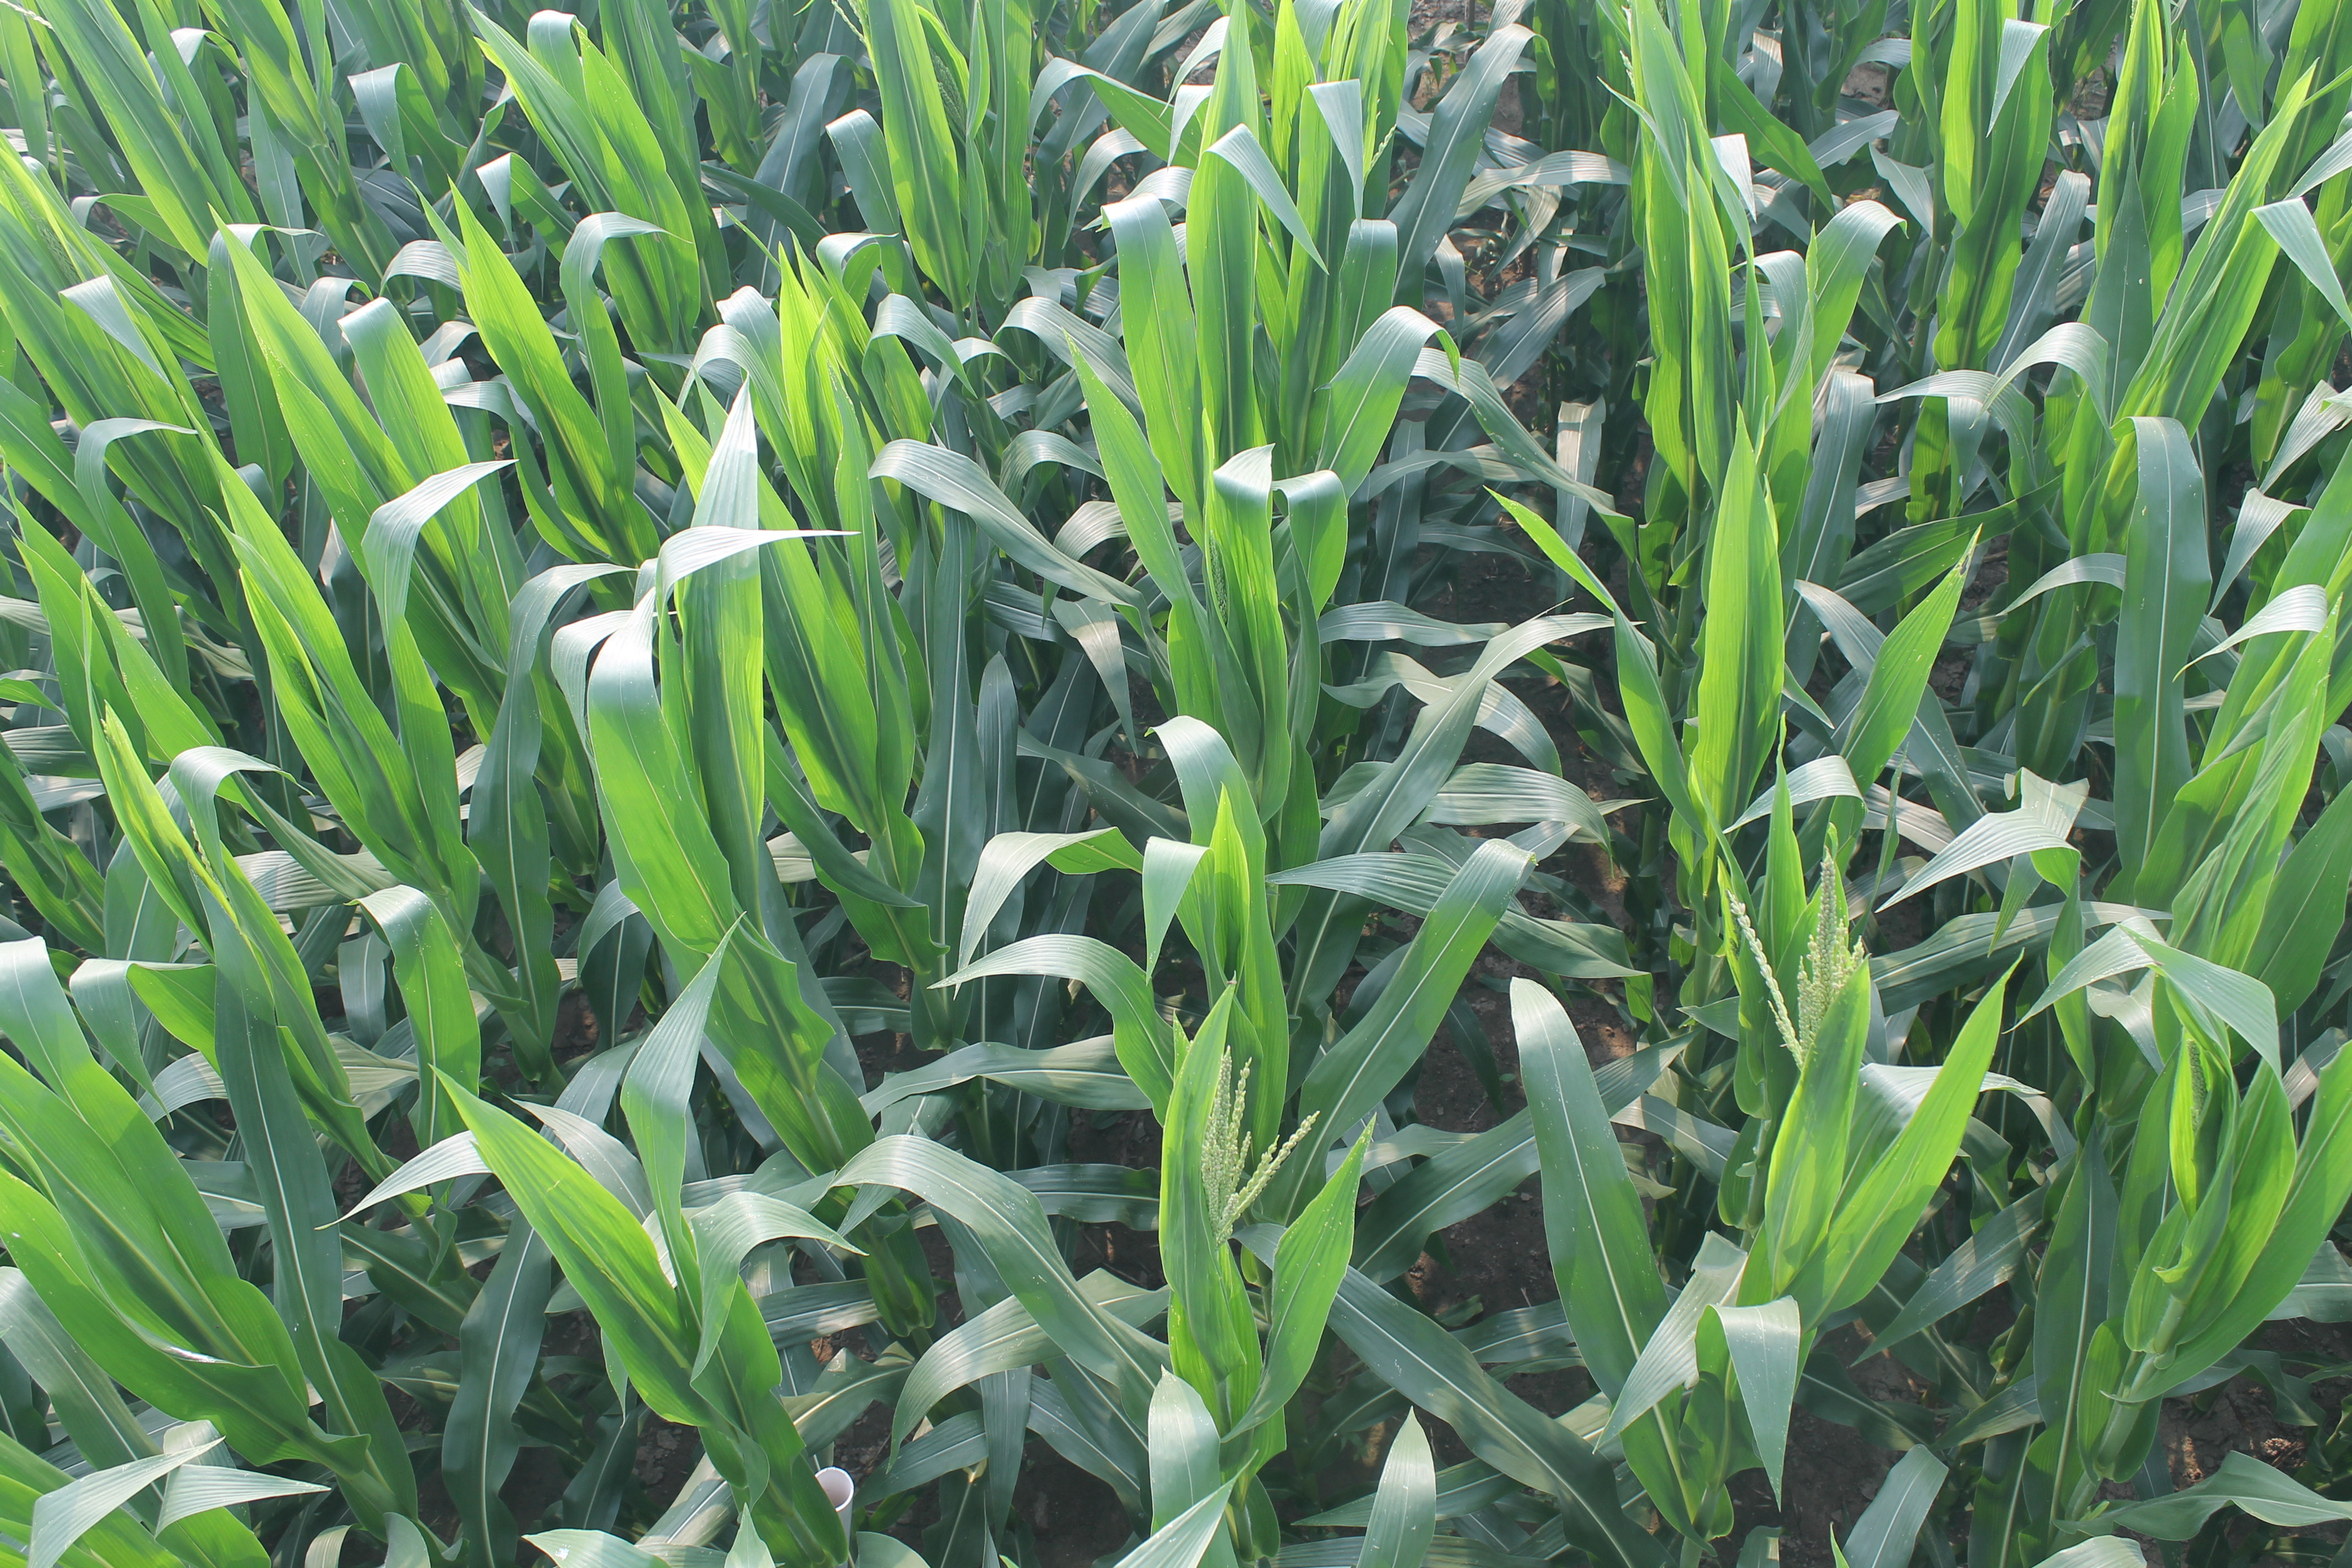Maize: (1736, 861, 1860, 1076), (1204, 1048, 1321, 1232)
